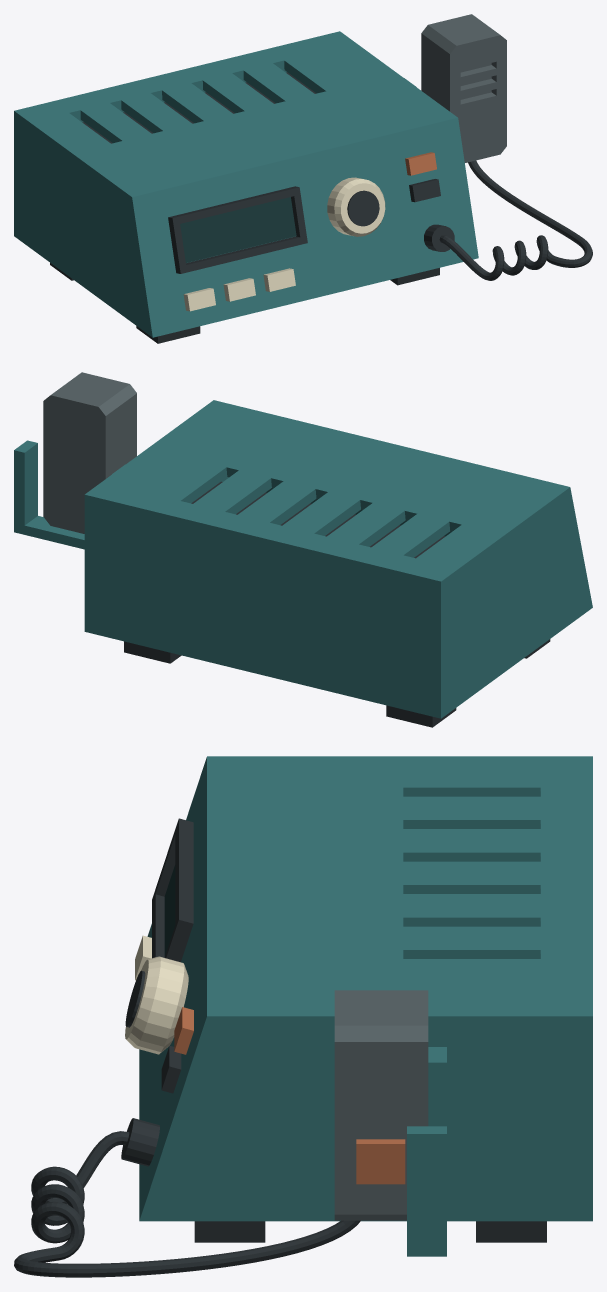
The picture shows the model from 3 angles, top to bottom: view 1: azimuth 30°, elevation 25°; view 2: azimuth 150°, elevation 25°; view 3: azimuth 270°, elevation 25°; orthographic projection. The views are drawn at different scales.
Parts seen in each view (by area): view 1: LowHollowSlottedChassis, FixedSlottedHandmic, InsetDarkScreen, RecessedScreenFrame, OneContinuousShortCoiledLead, LargeFacetedTuningKnob, KnobInsetFace, FrontLeadSocket, LowerKey_2, LowerKey_3, LowerKey_1, RightKey_2 (+1 smaller); view 2: LowHollowSlottedChassis, FixedSlottedHandmic, SideOpenUCradle, FiniteFoot_1_2, FiniteFoot_2_2, SeparatedInternalBaffle; view 3: LowHollowSlottedChassis, FixedSlottedHandmic, OneContinuousShortCoiledLead, SideOpenUCradle, LargeFacetedTuningKnob, RecessedScreenFrame, FixedMicSidePad, FiniteFoot_2_1, FiniteFoot_2_2, FrontLeadSocket, RightKey_2, InsetDarkScreen (+1 smaller).
Boxes of the visible parts, left/top/right/bottom form: LowHollowSlottedChassis: left=14, top=31, right=478, bottom=337; FixedSlottedHandmic: left=421, top=14, right=506, bottom=162; InsetDarkScreen: left=180, top=197, right=296, bottom=262; RecessedScreenFrame: left=168, top=186, right=307, bottom=273; OneContinuousShortCoiledLead: left=439, top=160, right=592, bottom=280; LargeFacetedTuningKnob: left=327, top=177, right=385, bottom=236; KnobInsetFace: left=347, top=190, right=379, bottom=226; FrontLeadSocket: left=424, top=224, right=454, bottom=251; LowerKey_2: left=223, top=278, right=255, bottom=301; LowerKey_3: left=263, top=268, right=295, bottom=291; LowerKey_1: left=183, top=288, right=215, bottom=311; RightKey_2: left=405, top=152, right=436, bottom=175; LowHollowSlottedChassis: left=84, top=400, right=592, bottom=718; FixedSlottedHandmic: left=43, top=372, right=136, bottom=533; SideOpenUCradle: left=14, top=440, right=125, bottom=549; FiniteFoot_1_2: left=386, top=705, right=456, bottom=727; FiniteFoot_2_2: left=124, top=641, right=181, bottom=663; SeparatedInternalBaffle: left=191, top=481, right=445, bottom=558; LowHollowSlottedChassis: left=139, top=756, right=592, bottom=1221; FixedSlottedHandmic: left=334, top=990, right=428, bottom=1220; OneContinuousShortCoiledLead: left=14, top=1131, right=360, bottom=1277; SideOpenUCradle: left=407, top=1047, right=446, bottom=1256; LargeFacetedTuningKnob: left=125, top=956, right=188, bottom=1054; RecessedScreenFrame: left=152, top=818, right=193, bottom=962; FixedMicSidePad: left=356, top=1139, right=405, bottom=1184; FiniteFoot_2_1: left=194, top=1221, right=265, bottom=1242; FiniteFoot_2_2: left=476, top=1221, right=546, bottom=1242; FrontLeadSocket: left=121, top=1118, right=159, bottom=1166; RightKey_2: left=174, top=1007, right=193, bottom=1054; InsetDarkScreen: left=164, top=865, right=175, bottom=956.
Bounding box in the file's own units: 0.534 × 0.215 × 0.3765.
